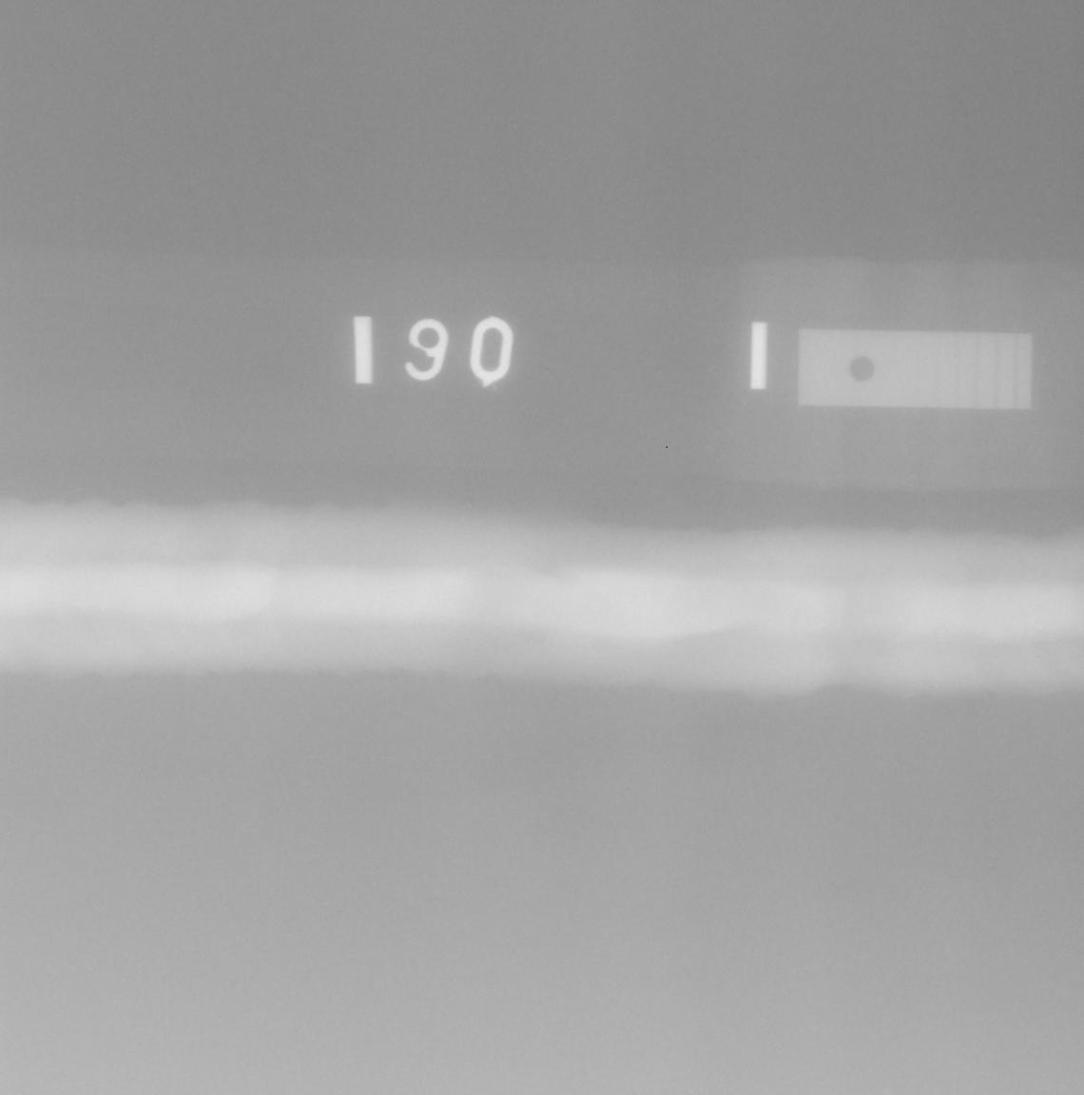Reference Standard 1: (797, 329, 1031, 409)
